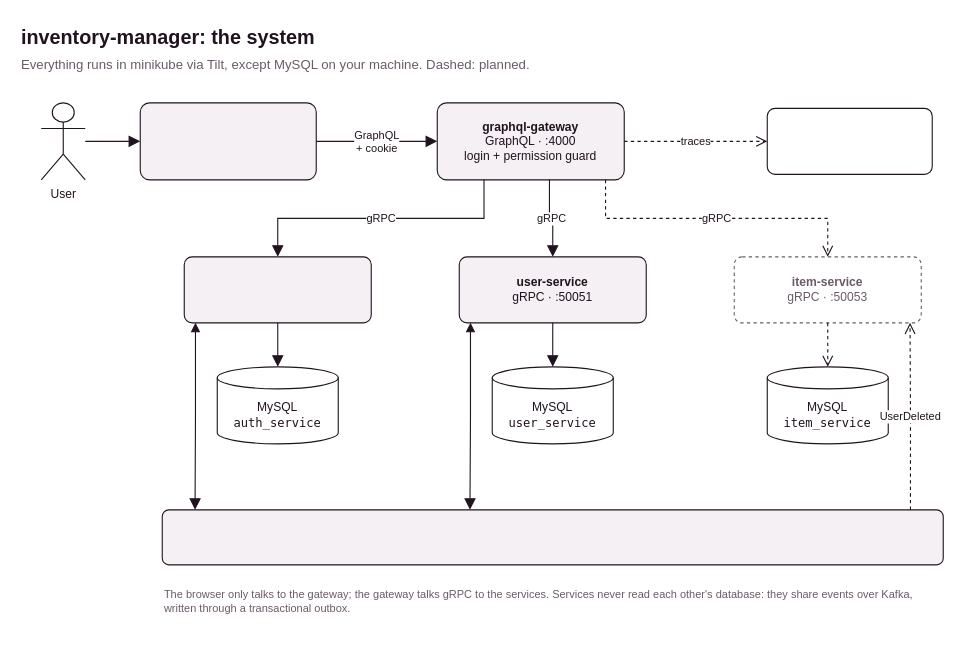
The diagram is 963 pixels wide and 655 high, and some of its shapes have lost their labels. The shapes that lost their labels are listed below. From the top down, each one's centre as x and y in pixels, then its label:
At (x=227, y=141): "web SolidStart · :3000".
At (x=849, y=140): "Jaeger traces · :16686".
At (x=277, y=289): "auth-service gRPC · :50052".
At (x=552, y=537): "Kafka auth.events : IdentityRegistered · user.events : UserDeleted".
